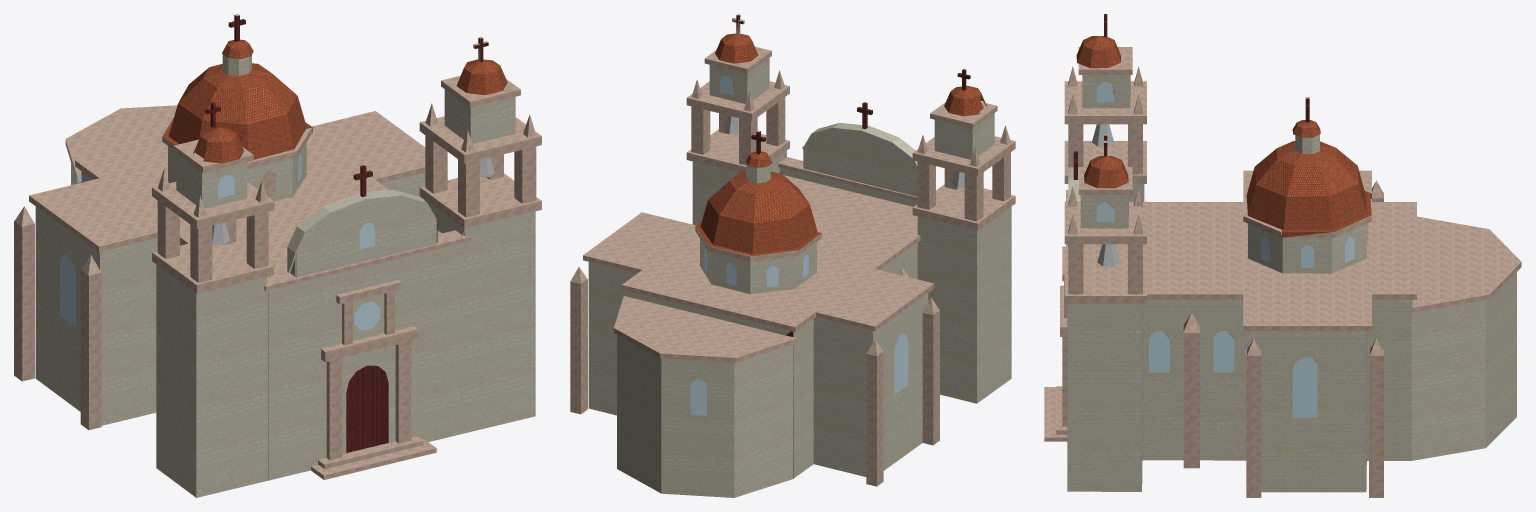
Rendered from iglesia.obj.
The picture shows the model from 3 angles, left to right: view 1: azimuth 30°, elevation 25°; view 2: azimuth 150°, elevation 25°; view 3: azimuth 270°, elevation 25°; orthographic projection. The views are drawn at different scales.
Visible parts, largest first — view 1: muros, techo, cupula, madera, cupu, ventanas, campanas; view 2: muros, techo, cupula, ventanas, cupu, madera; view 3: muros, techo, cupula, ventanas, cupu, campanas.
Part boxes in pixels (box(x1,y1,x2,y2)): muros: box(35, 54, 535, 497); techo: box(14, 14, 541, 480); cupula: box(163, 39, 312, 159); madera: box(81, 15, 488, 452); cupu: box(193, 59, 507, 163); ventanas: box(60, 154, 380, 330); campanas: box(212, 157, 494, 244); muros: box(588, 58, 1011, 497); techo: box(570, 14, 1015, 486); cupula: box(695, 101, 983, 255); ventanas: box(690, 75, 908, 415); cupu: box(715, 33, 987, 116); madera: box(733, 15, 970, 478); muros: box(1067, 75, 1516, 492); techo: box(1044, 47, 1521, 497); cupula: box(1246, 120, 1371, 237); ventanas: box(1096, 82, 1354, 417); cupu: box(1076, 36, 1128, 188); campanas: box(1092, 124, 1119, 266).
Size of the model in its own units: 25.8 by 25.2 by 31.9.
8 materials, 7 textured.
